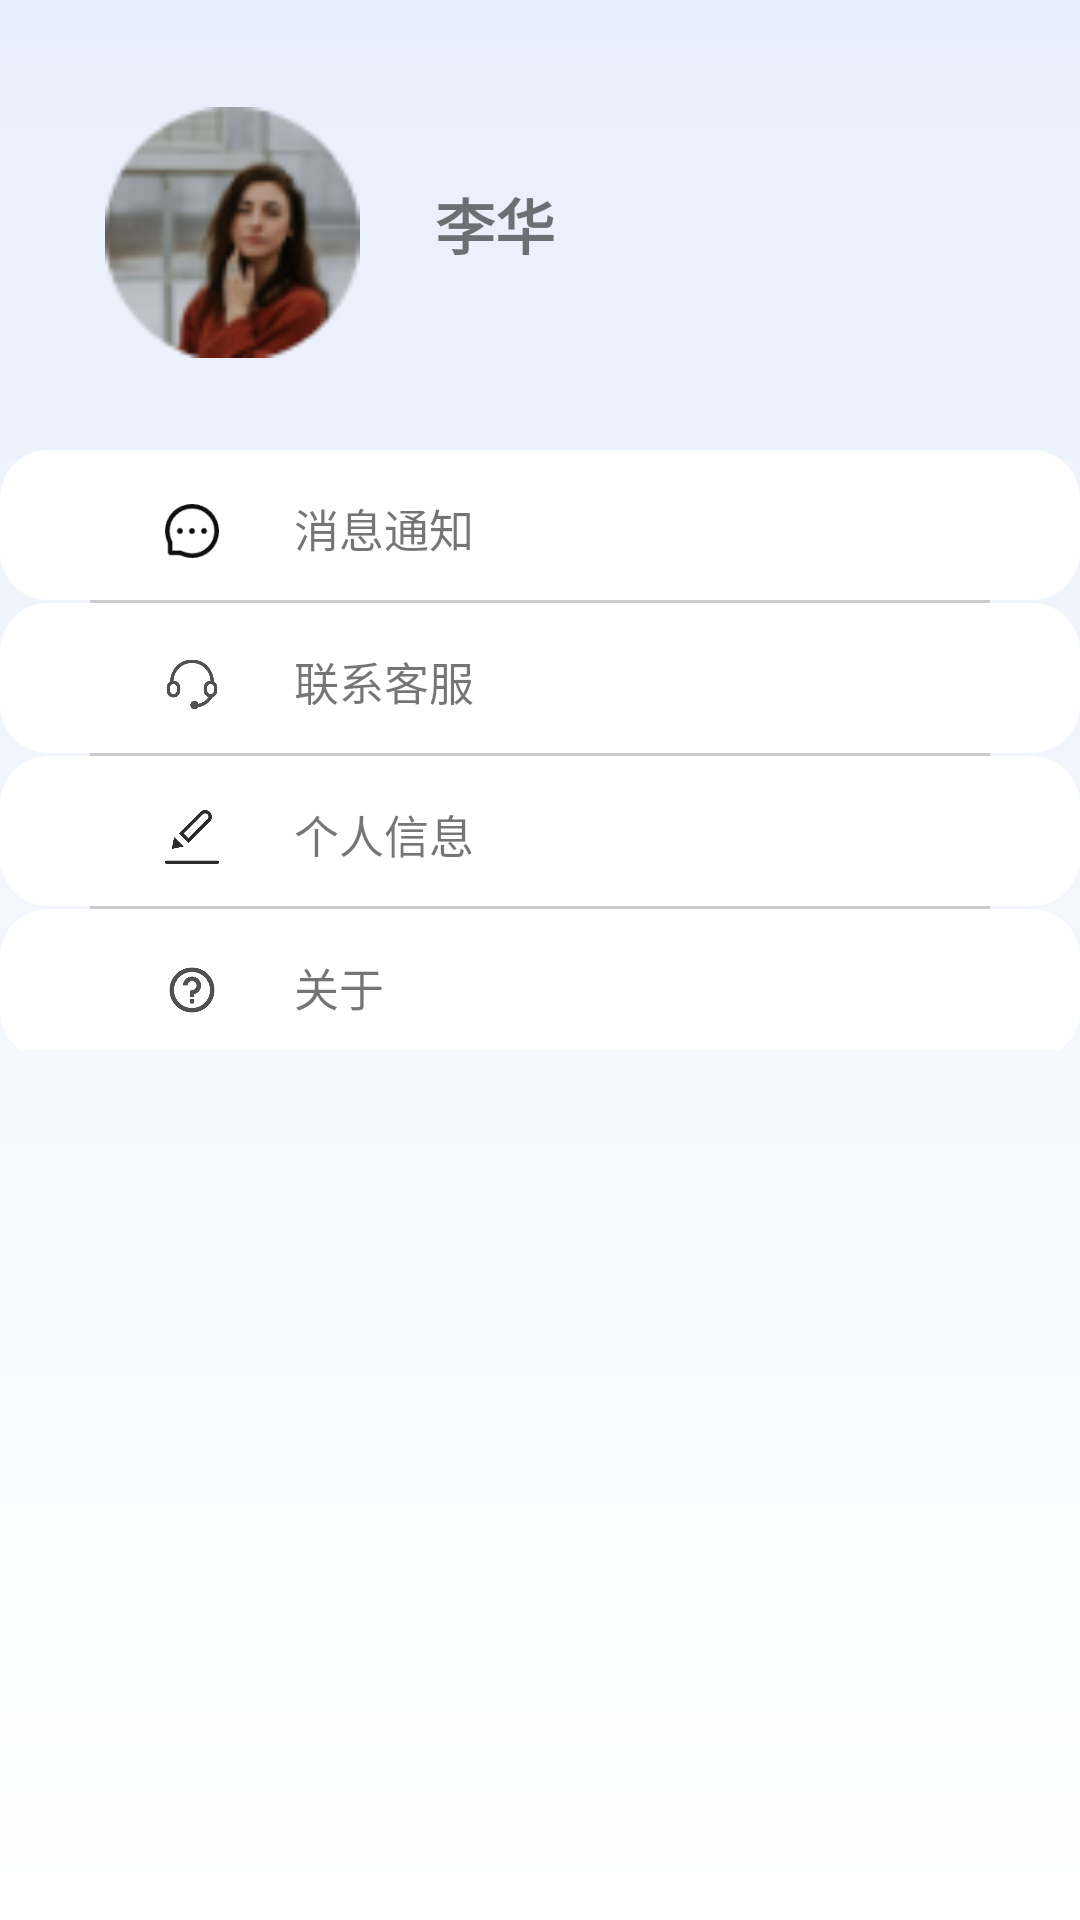

Where to tap for icons on this 1080x1920 app screen, as (x=x, y=y):
about: (x=192, y=990)
changeinfo: (x=192, y=837)
feedback: (x=192, y=684)
message: (x=192, y=531)
